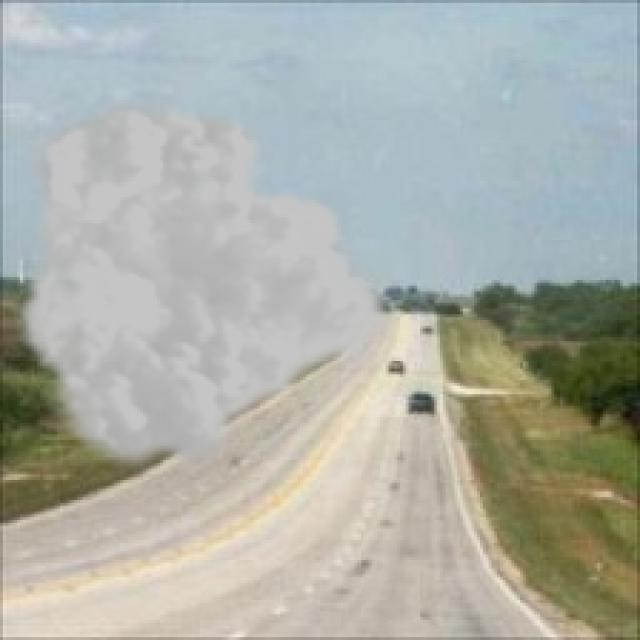Smoke: (14, 94, 400, 480)
